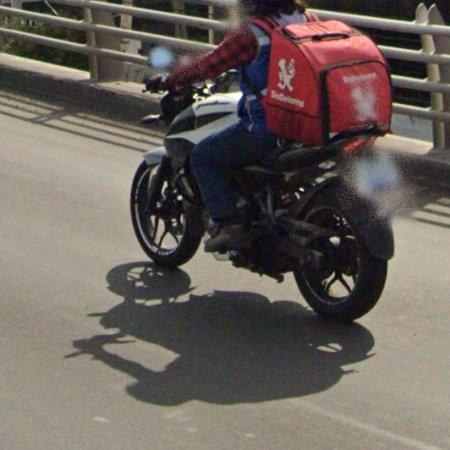motorcycles: (226, 134, 389, 322), (131, 70, 240, 267)
